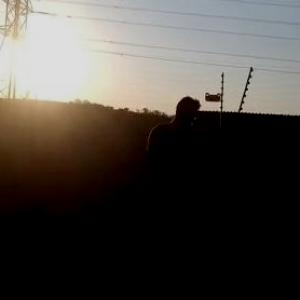follow: (138, 93, 204, 299)
